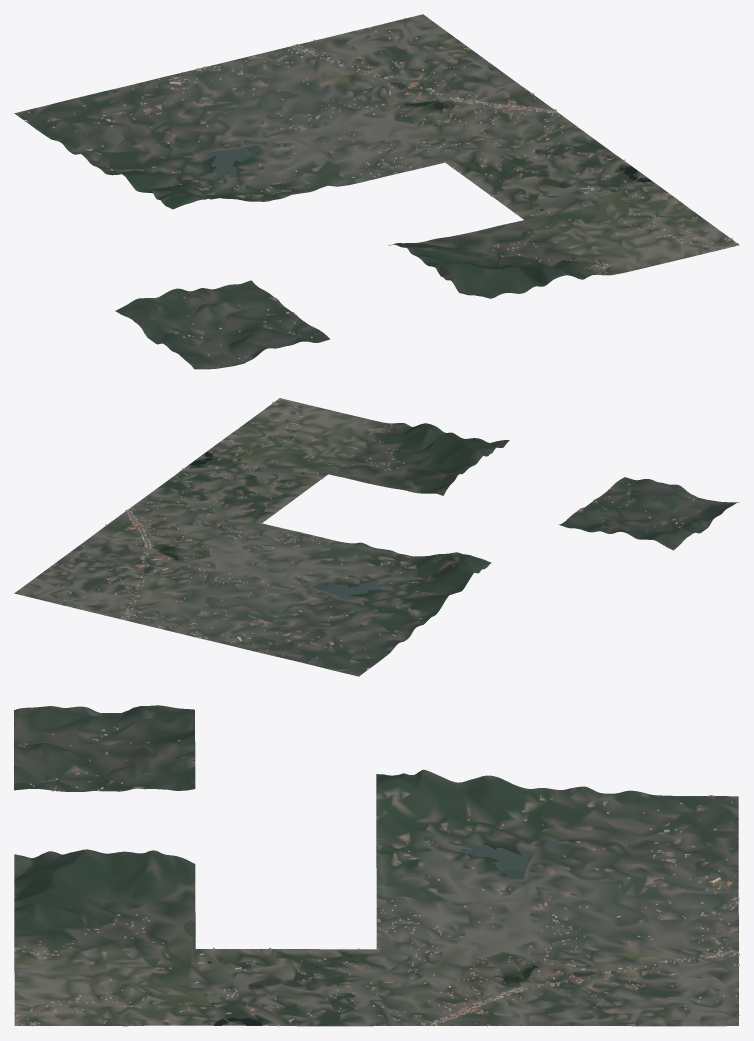
The picture shows the model from 3 angles, top to bottom: view 1: azimuth 30°, elevation 25°; view 2: azimuth 150°, elevation 25°; view 3: azimuth 270°, elevation 25°; orthographic projection. The views are drawn at different scales.
Visible parts, largest first — view 1: ground, buildings, water; view 2: ground, buildings, water; view 3: ground, buildings, water.
Boxes of the visible parts, bbox=[...] form: ground: bbox=[14, 14, 739, 369]; buildings: bbox=[24, 18, 738, 360]; water: bbox=[108, 82, 689, 365]; ground: bbox=[14, 398, 739, 676]; buildings: bbox=[29, 398, 699, 672]; water: bbox=[144, 428, 705, 656]; ground: bbox=[14, 705, 738, 1026]; buildings: bbox=[15, 727, 739, 1026]; water: bbox=[14, 740, 734, 1025].
Bounding box in the file's own units: 5597 × 256 × 5619.
